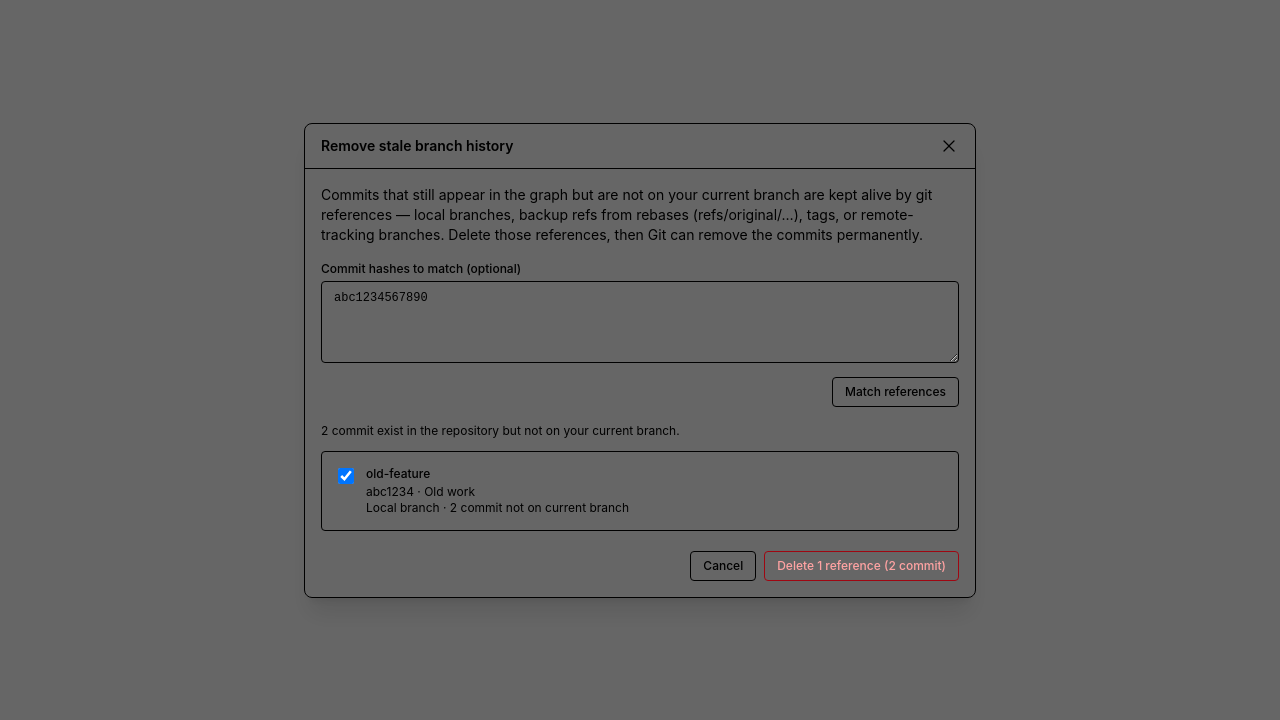
Test case: RemoveStaleBranchesModal › toggles reference selection and disables delete when none selected
Expected: the text "old-feature" is shown, [366,466,430,480]
What coordinates should you click on to do the following:
click the checkbox
I would click on:
 (346, 476)
Its box is [338,468,354,484].
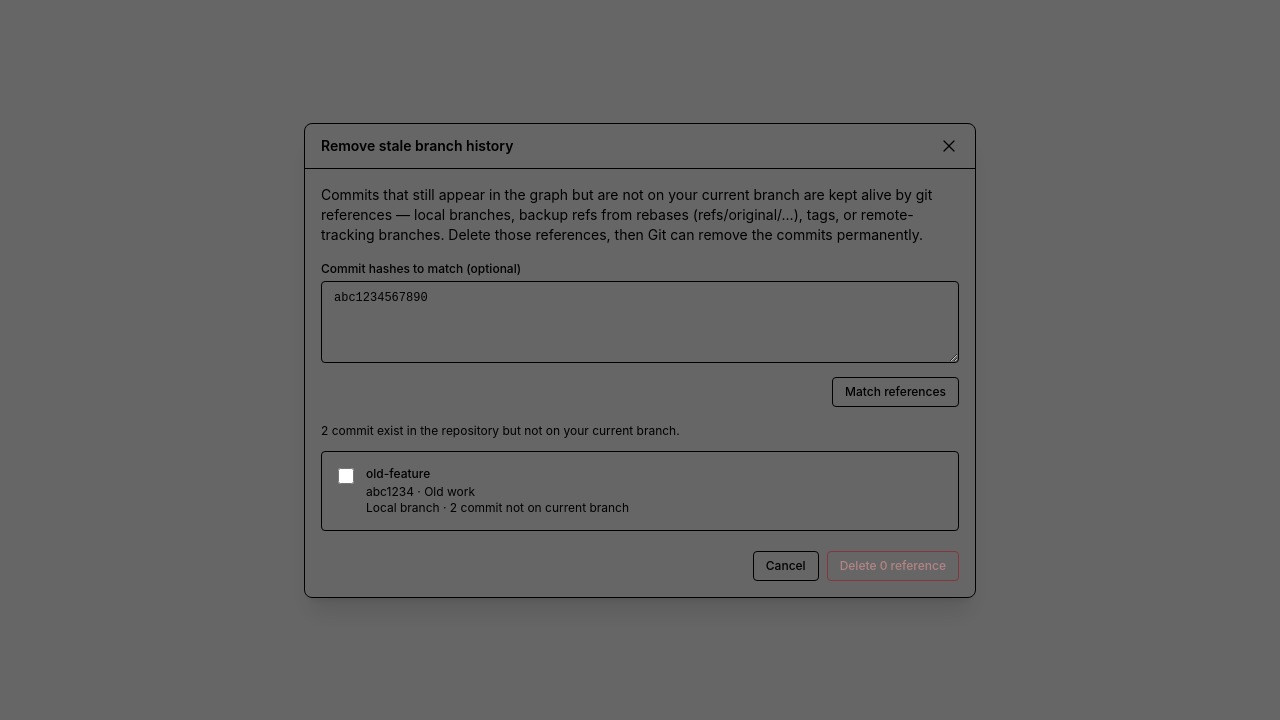
Expected: the button "Delete 0 reference" is disabled, [827,550,959,580]
What coordinates should you click on to do the following:
click the checkbox
I would click on:
 (346, 476)
Its box is [338,468,354,484].
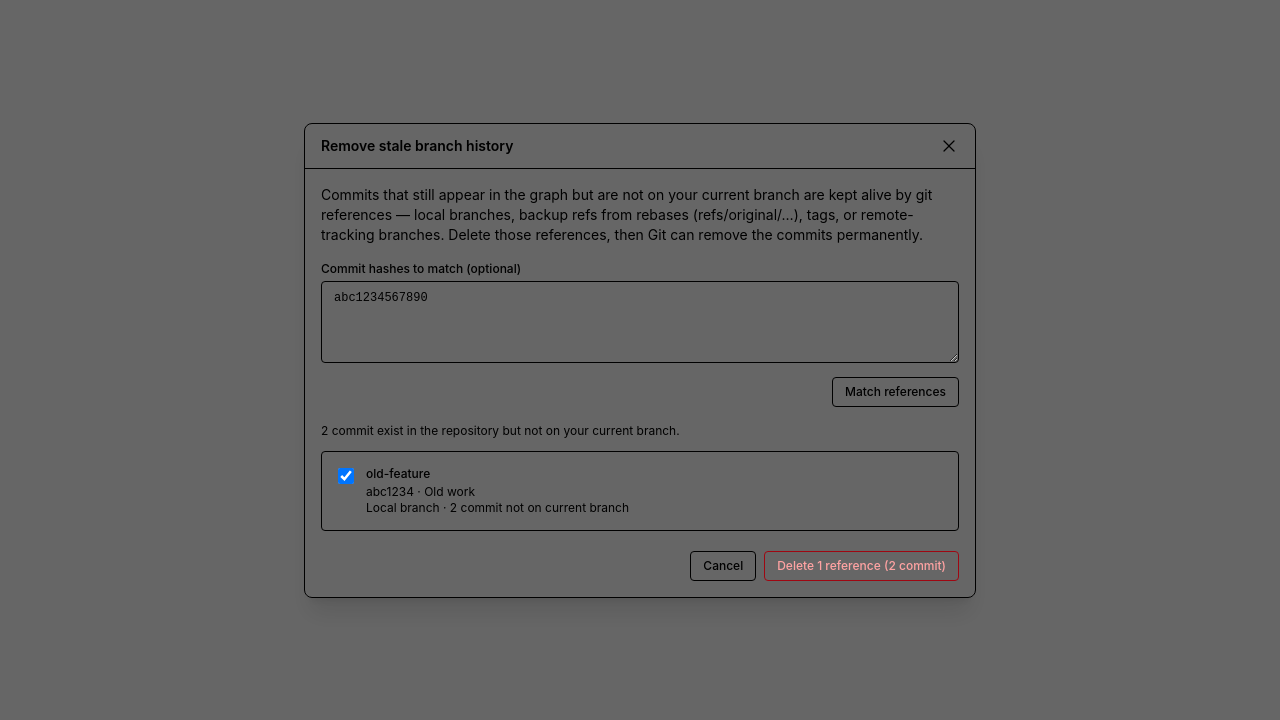
Expected: the button "Delete 1 reference (2 commit)" is enabled, [764,550,959,580]
